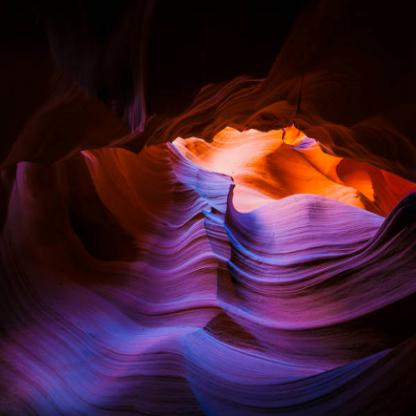Sedimentary_Sandstone: (5, 3, 415, 145)
